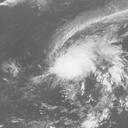cyclone: (52, 38, 112, 84)
